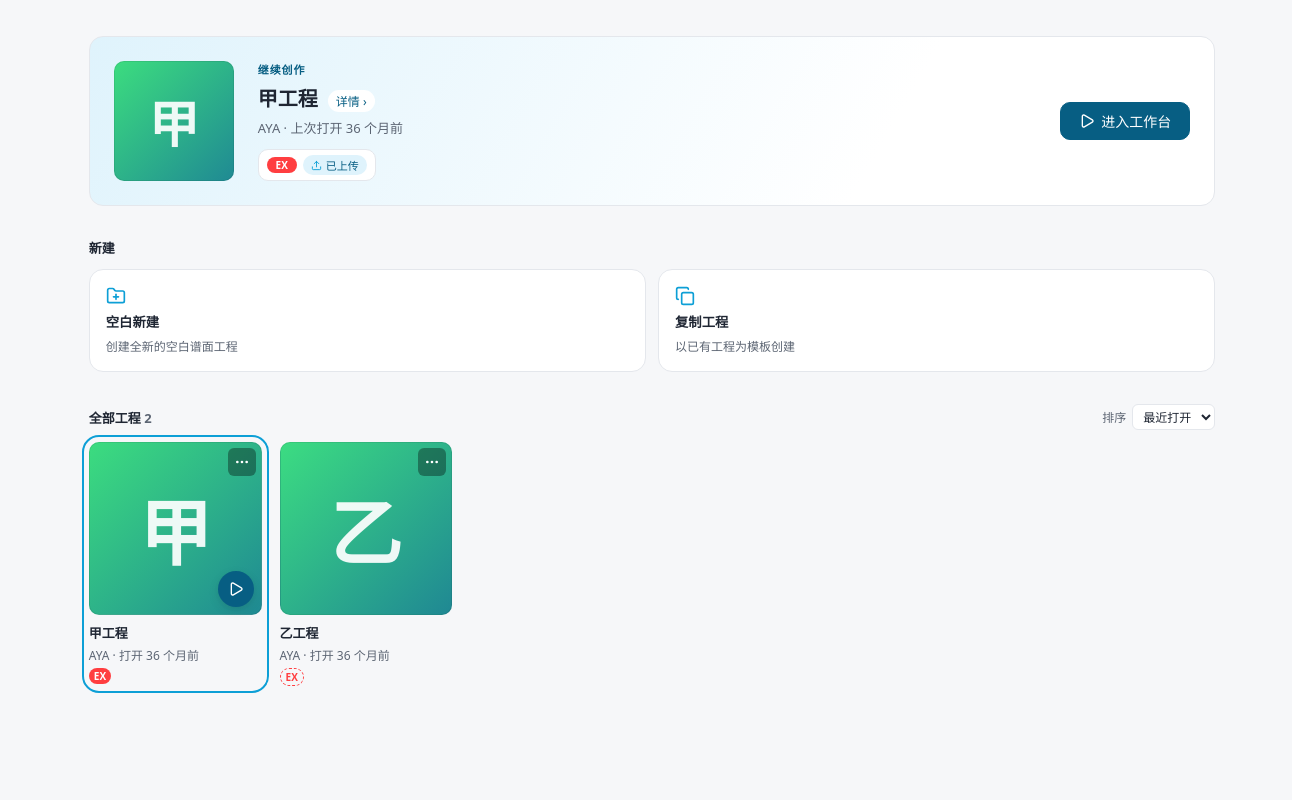
Scenario: 票 15 · 工程详情音频行（只读展示 + 带作用域跳转） › 多张已上传谱面：详情页仍是同一句短语，不随张数变长（票 50 #4）
The image size is (1292, 800).
expect the element showing "甲 甲工程 AYA · 打开 36 个月前 EX" is shown: met, box [89,442,262,686]
Click the text "甲工程".
click(108, 633)  # box [89,624,128,642]
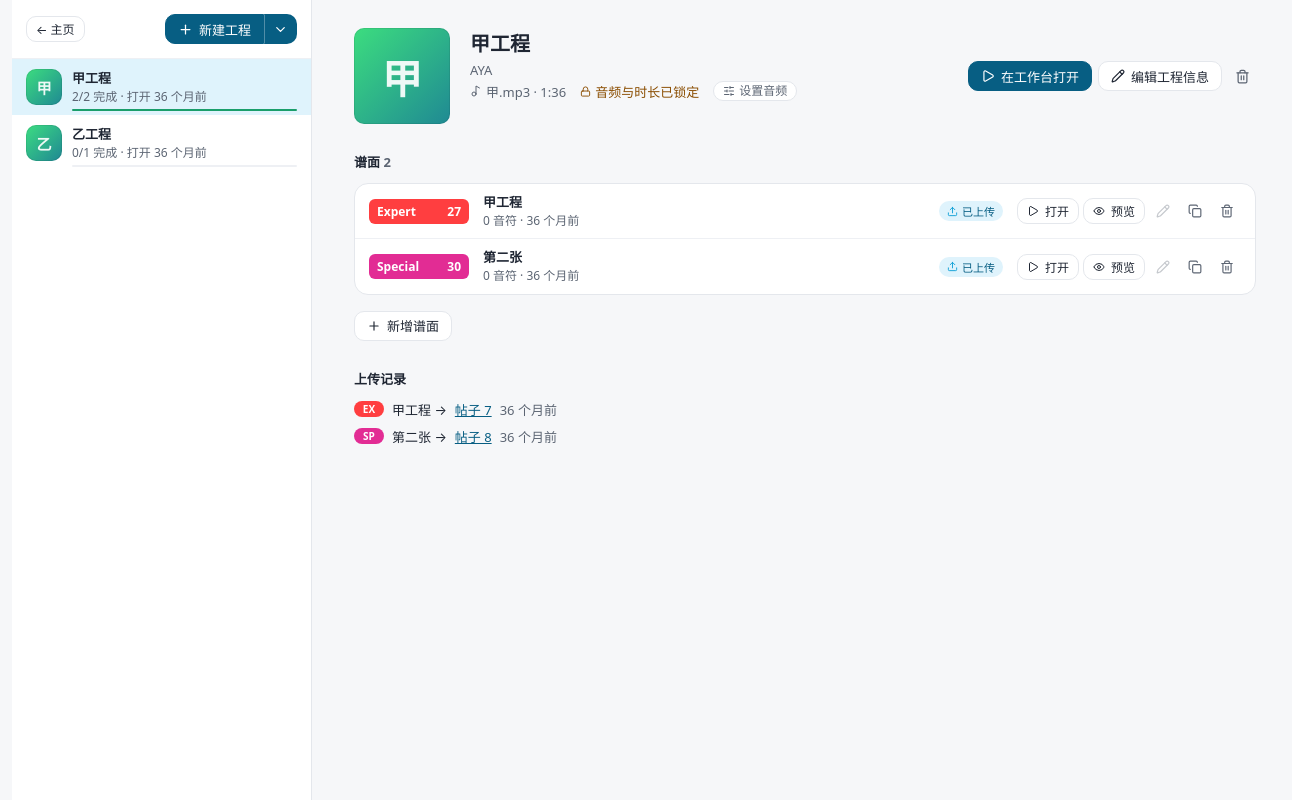
expect the text "音频与时长已锁定" is shown: met, box [580,82,699,100]
